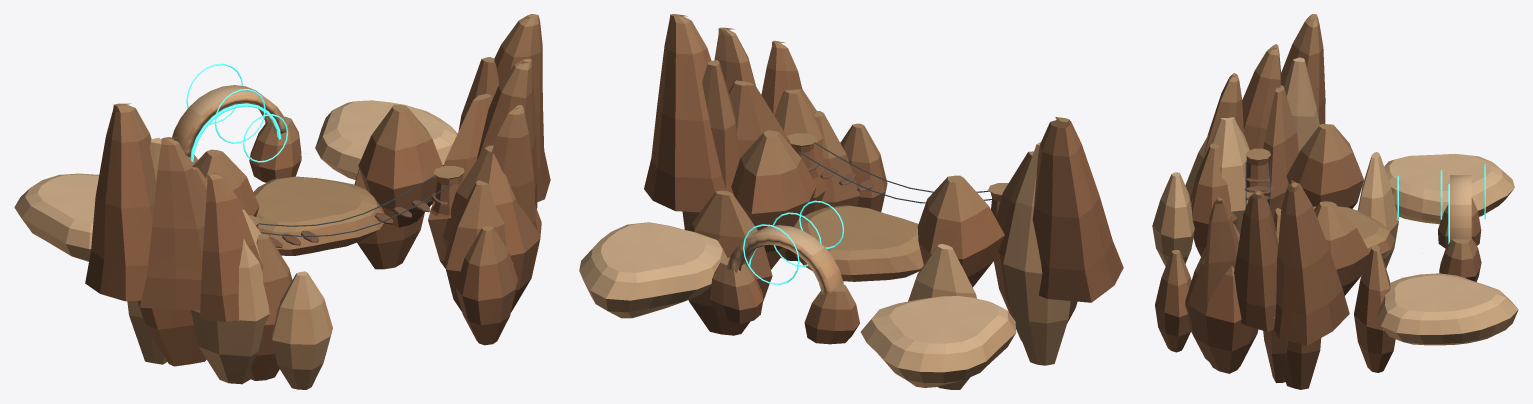
Rendered from wind-canyon-low.glb.
3 renders of one model, left to right at view 1: azimuth 30°, elevation 25°; view 2: azimuth 150°, elevation 25°; view 3: azimuth 270°, elevation 25°, orthographic. The views are drawn at different scales.
Visible parts, largest first — view 1: CanyonCliffs, LandingPad, WindTunnel, BrokenBridge; view 2: CanyonCliffs, WindTunnel, LandingPad, BrokenBridge; view 3: CanyonCliffs, WindTunnel, BrokenBridge, LandingPad.
Boxes of the visible parts, x1=… form: CanyonCliffs: x1=14, y1=14, x2=550, y2=389; LandingPad: x1=253, y1=176, x2=384, y2=255; WindTunnel: x1=172, y1=63, x2=305, y2=182; BrokenBridge: x1=248, y1=166, x2=464, y2=247; CanyonCliffs: x1=579, y1=14, x2=1123, y2=389; WindTunnel: x1=710, y1=200, x2=859, y2=344; LandingPad: x1=794, y1=205, x2=923, y2=281; BrokenBridge: x1=787, y1=133, x2=1008, y2=217; CanyonCliffs: x1=1152, y1=14, x2=1518, y2=389; WindTunnel: x1=1397, y1=164, x2=1485, y2=281; BrokenBridge: x1=1244, y1=148, x2=1274, y2=208; LandingPad: x1=1313, y1=206, x2=1394, y2=255.
Bounding box in the file's own units: 189 × 102 × 152.
